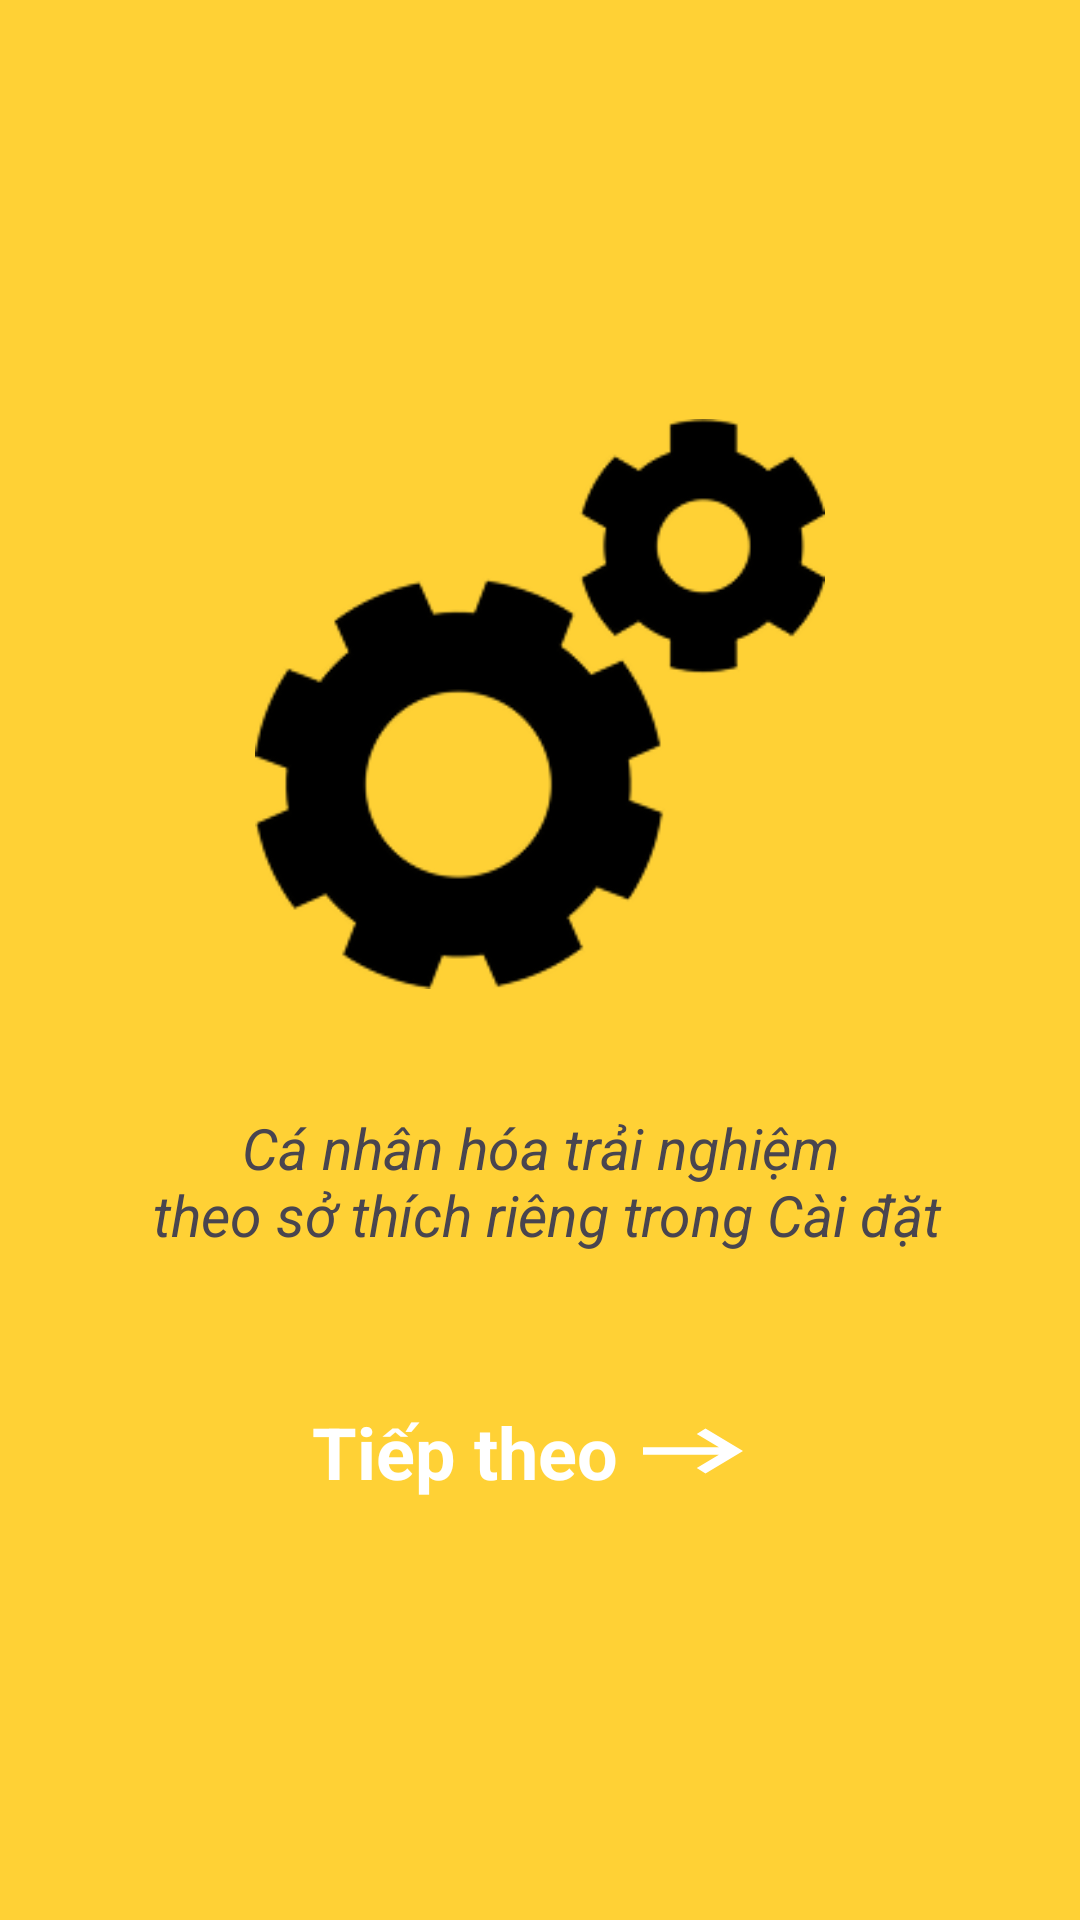

Where icons sit on this 1080px x 1920px app screen, as (x1=x1, y1=y1, x2=x2, y2=y2):
continue: (x1=643, y1=1428, x2=743, y2=1474)
